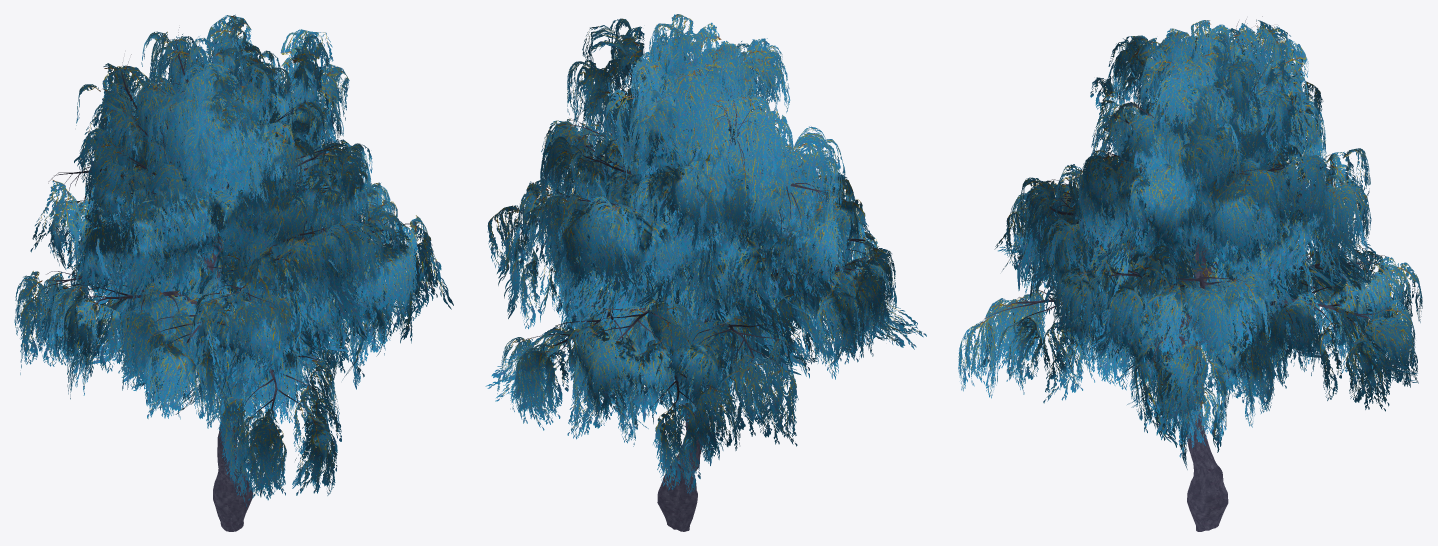
The picture shows the model from 3 angles, left to right: view 1: azimuth 30°, elevation 25°; view 2: azimuth 150°, elevation 25°; view 3: azimuth 270°, elevation 25°; orthographic projection.
Parts seen in each view (by area): view 1: SM_Willow_03_LOD0; view 2: SM_Willow_03_LOD0; view 3: SM_Willow_03_LOD0.
Boxes of the visible parts, bbox=[...] form: SM_Willow_03_LOD0: bbox=[14, 14, 453, 531]; SM_Willow_03_LOD0: bbox=[485, 14, 926, 531]; SM_Willow_03_LOD0: bbox=[958, 16, 1422, 531].
Size of the model in its own units: 19.24 by 23.26 by 19.17.
Materials: 1 (1 with a texture image).
